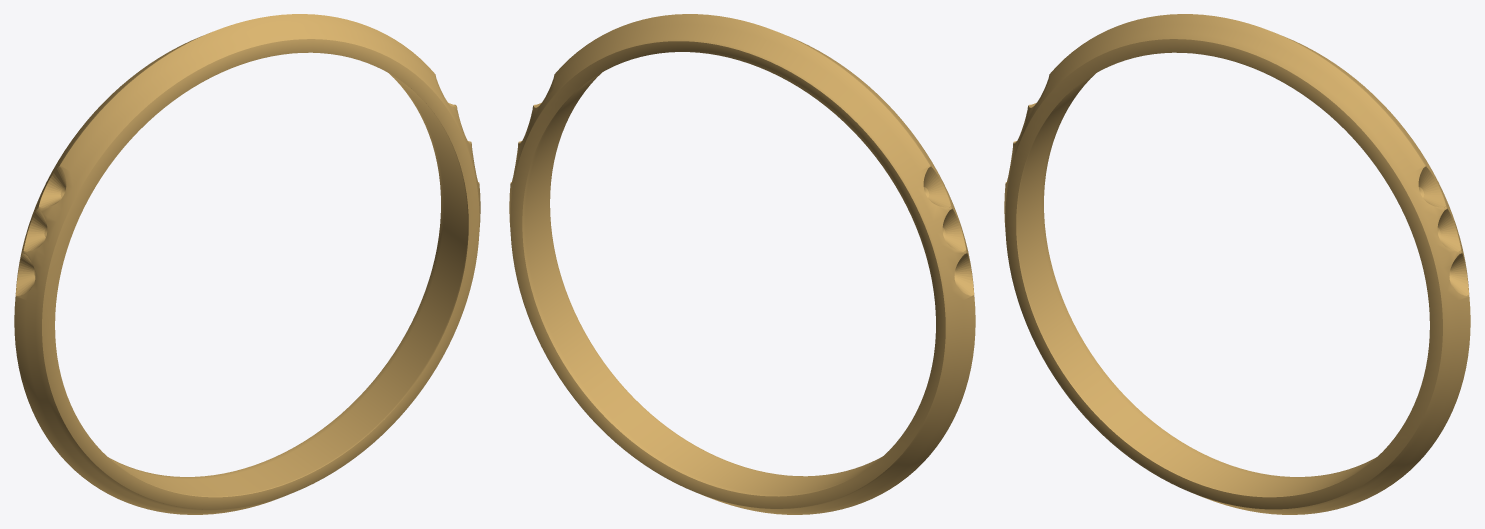
File: knife-edge-pave-wide.glb
3 renders of one model, left to right at view 1: azimuth 30°, elevation 25°; view 2: azimuth 150°, elevation 25°; view 3: azimuth 330°, elevation 25°, orthographic.
Parts seen in each view (by area): view 1: Band; view 2: Band; view 3: Band.
Part boxes in pixels (left/top/right/bottom): Band: left=14, top=14, right=480, bottom=514; Band: left=509, top=14, right=975, bottom=514; Band: left=1004, top=14, right=1470, bottom=514.
Bounding box in the file's own units: 19.6 × 19.6 × 2.1.
